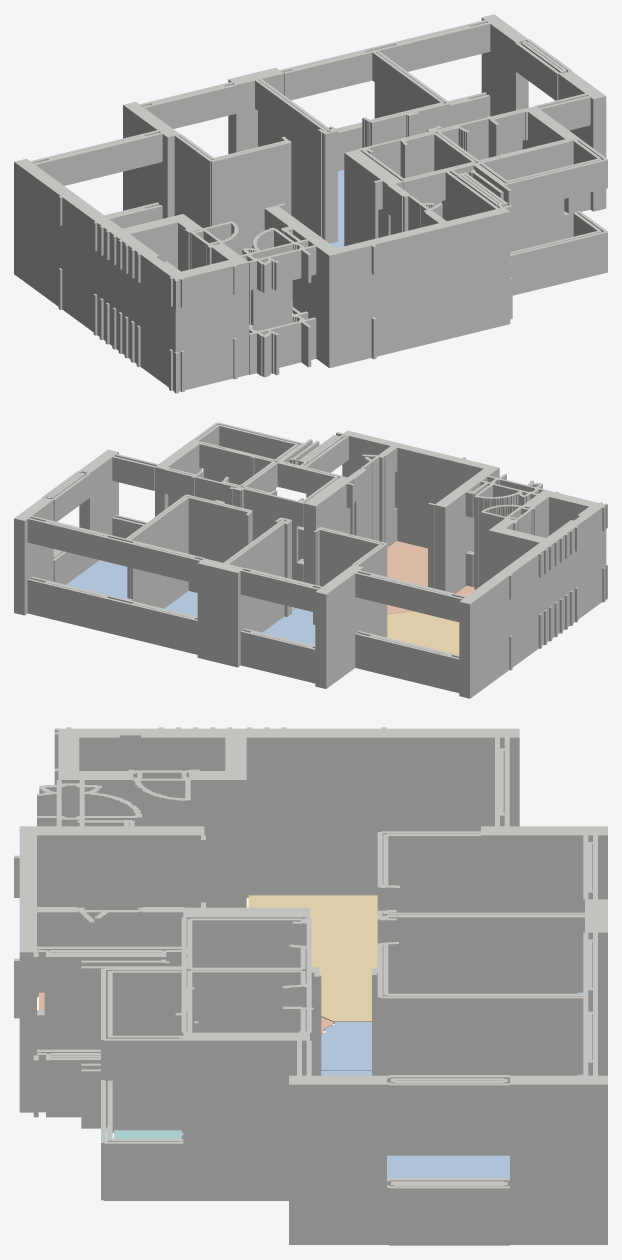
3 views of the same model, one above another, from view 1: azimuth 30°, elevation 25°; view 2: azimuth 150°, elevation 25°; view 3: azimuth 270°, elevation 25° (orthographic). The views are drawn at different scales.
Parts seen in each view (by area): view 1: walls, room:bedroom:2; view 2: walls, room:living:3, room:kitchen:6, room:bedroom:1, room:bedroom:0, room:bedroom:2; view 3: walls, room:living:3, room:bedroom:1, room:bedroom:0.
Boxes of the visible parts, x1=… form: walls: x1=14, y1=14, x2=607, y2=393; room:bedroom:2: x1=330, y1=170, x2=344, y2=248; walls: x1=14, y1=422, x2=607, y2=698; room:living:3: x1=387, y1=611, x2=459, y2=654; room:kitchen:6: x1=387, y1=541, x2=474, y2=614; room:bedroom:1: x1=66, y1=560, x2=127, y2=599; room:bedroom:0: x1=262, y1=608, x2=315, y2=645; room:bedroom:2: x1=164, y1=591, x2=295, y2=616; walls: x1=14, y1=727, x2=607, y2=1245; room:living:3: x1=248, y1=895, x2=377, y2=1023; room:bedroom:1: x1=387, y1=1155, x2=509, y2=1178; room:bedroom:0: x1=321, y1=992, x2=583, y2=1070.
Bounding box in the file's own units: 13.41 × 2.8 × 9.4.
